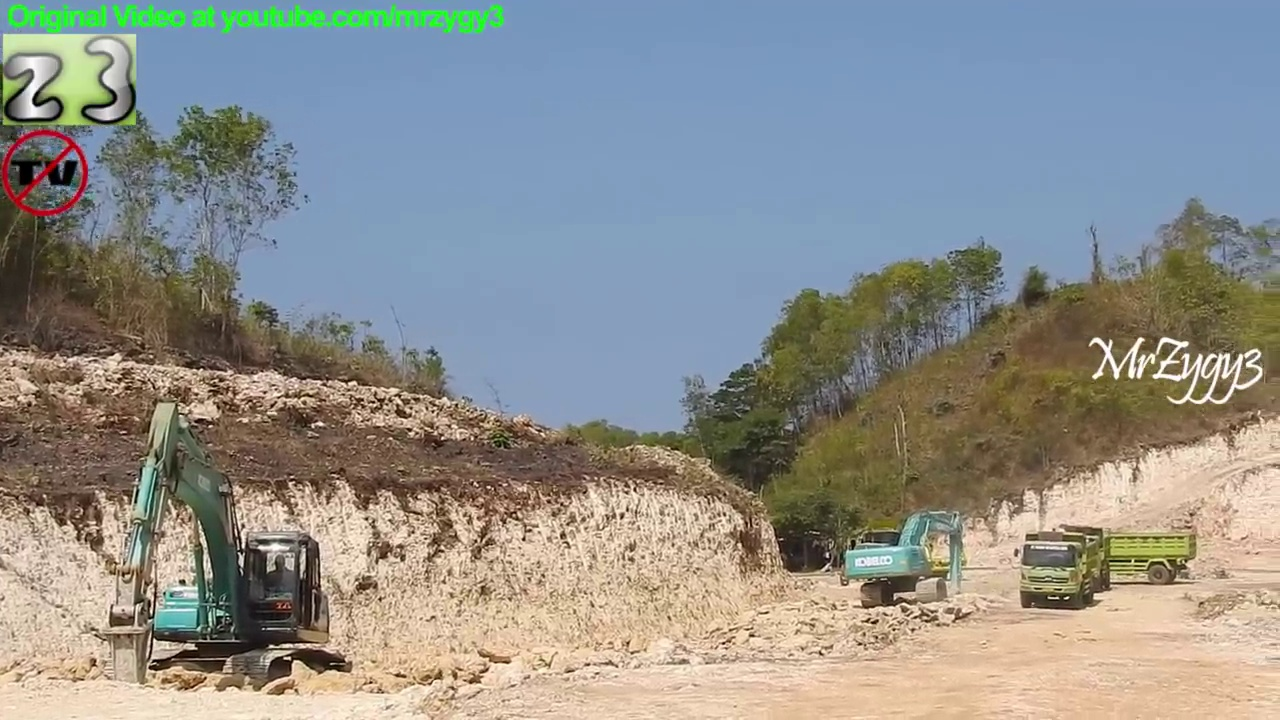excavator: (840, 506, 969, 612)
excavator breaker: (93, 398, 355, 702)
truck: (1038, 519, 1200, 589), (1012, 531, 1103, 609), (1024, 524, 1113, 602)
